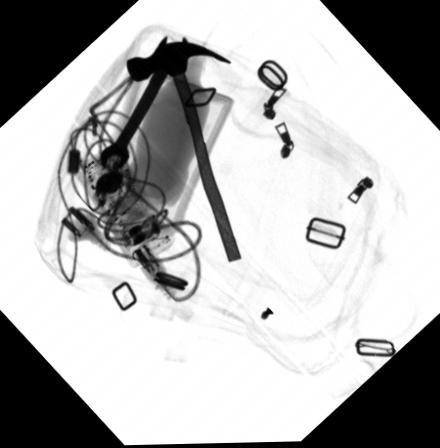Hammer: (127, 41, 243, 262)
Wrench: (98, 37, 188, 170)
